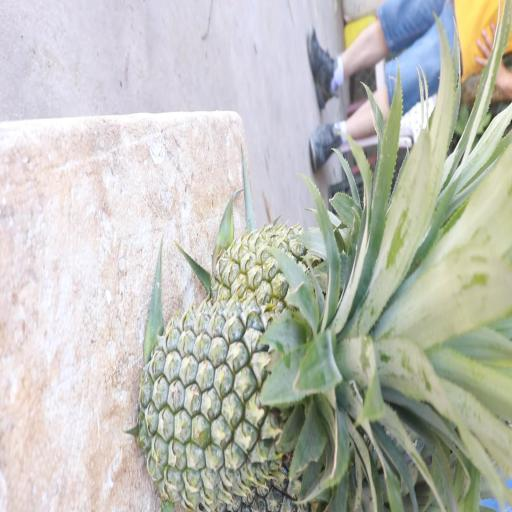Pineapple - v8 v1: (212, 202, 352, 316)
